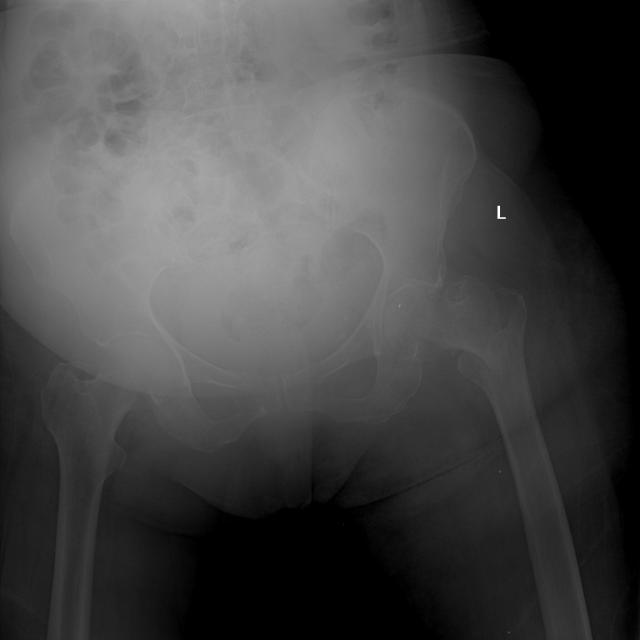left-intertrochanteric: (458, 288, 538, 431), (385, 275, 500, 370)
normal-right: (40, 337, 174, 537)
